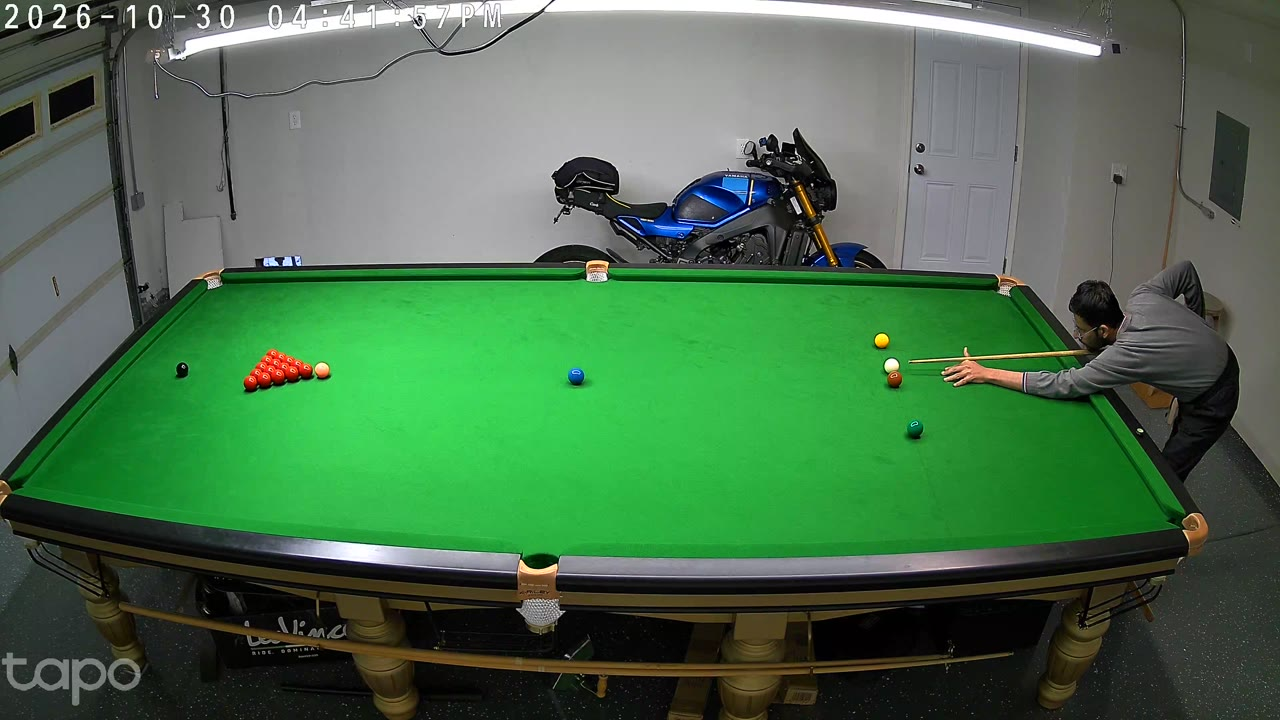black: (176, 361, 189, 381)
blue: (568, 366, 585, 389)
brown: (888, 370, 901, 390)
green: (907, 418, 923, 441)
pink: (315, 361, 329, 382)
red: (270, 357, 282, 378), (253, 366, 264, 387), (255, 362, 267, 381), (273, 368, 284, 387), (259, 372, 271, 389), (280, 363, 290, 383), (291, 360, 301, 380), (245, 375, 256, 393), (287, 365, 298, 383), (301, 362, 312, 380), (265, 364, 275, 383), (287, 356, 297, 375), (299, 361, 308, 380), (262, 354, 272, 371), (295, 359, 303, 377)
white: (884, 357, 899, 380)
yellow: (875, 332, 889, 352)
